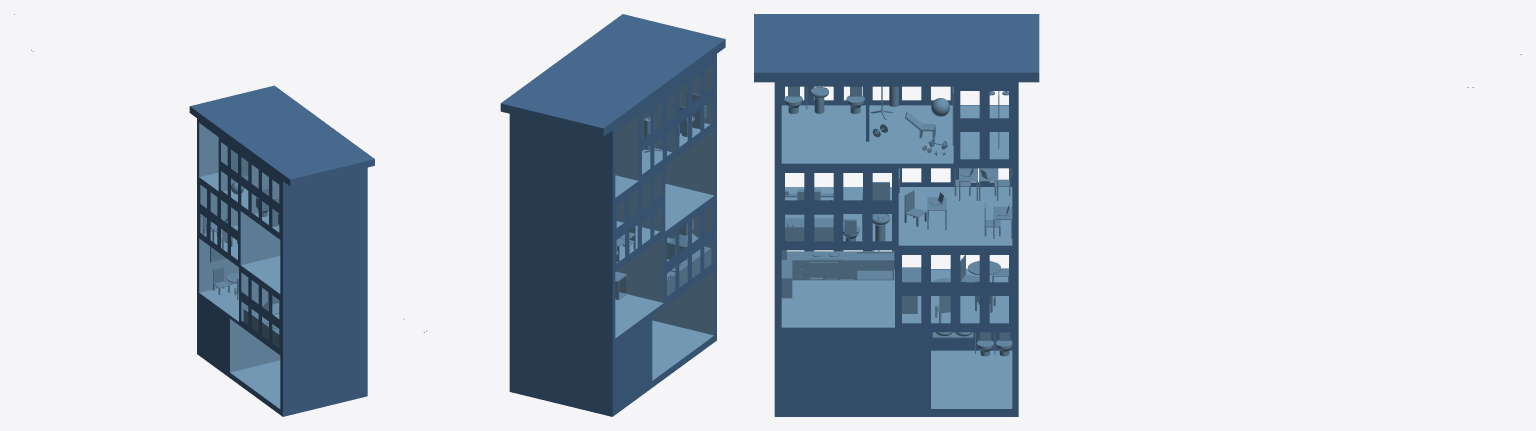
Rendered from office-2.glb.
The picture shows the model from 3 angles, left to right: view 1: azimuth 30°, elevation 25°; view 2: azimuth 150°, elevation 25°; view 3: azimuth 270°, elevation 25°; orthographic projection. The views are drawn at different scales.
Visible parts, largest first — view 1: office; view 2: office; view 3: office.
Boxes of the visible parts, x1,y1,x2,y2 form: office: [14, 14, 374, 416]; office: [403, 14, 725, 416]; office: [754, 14, 1521, 416].
Size of what is drawn, in the model's own units: 13.87 by 35.44 by 71.64.
